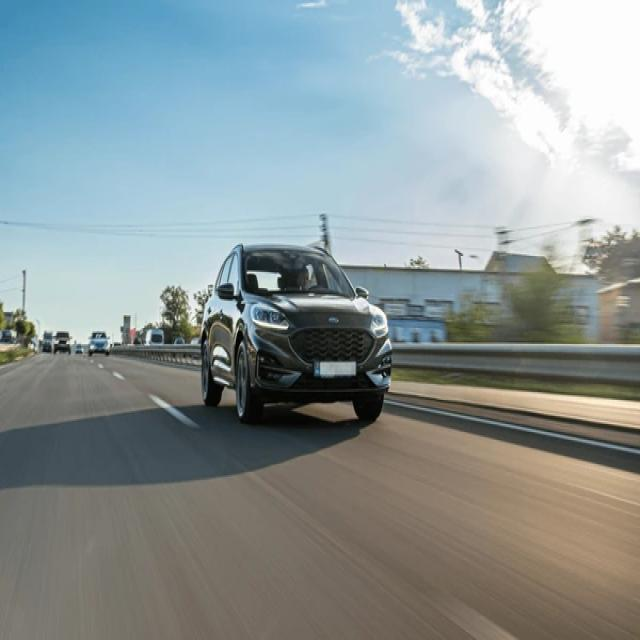ford: (325, 308, 344, 328)
